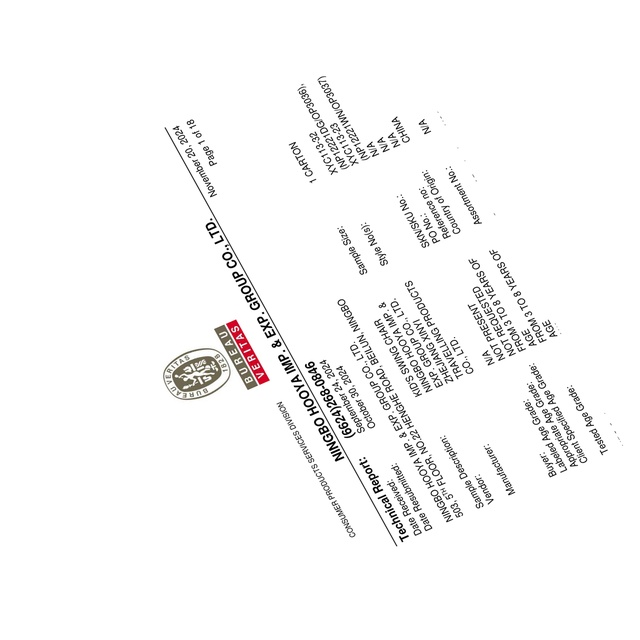bureau_veritas: (160, 318, 269, 401)
